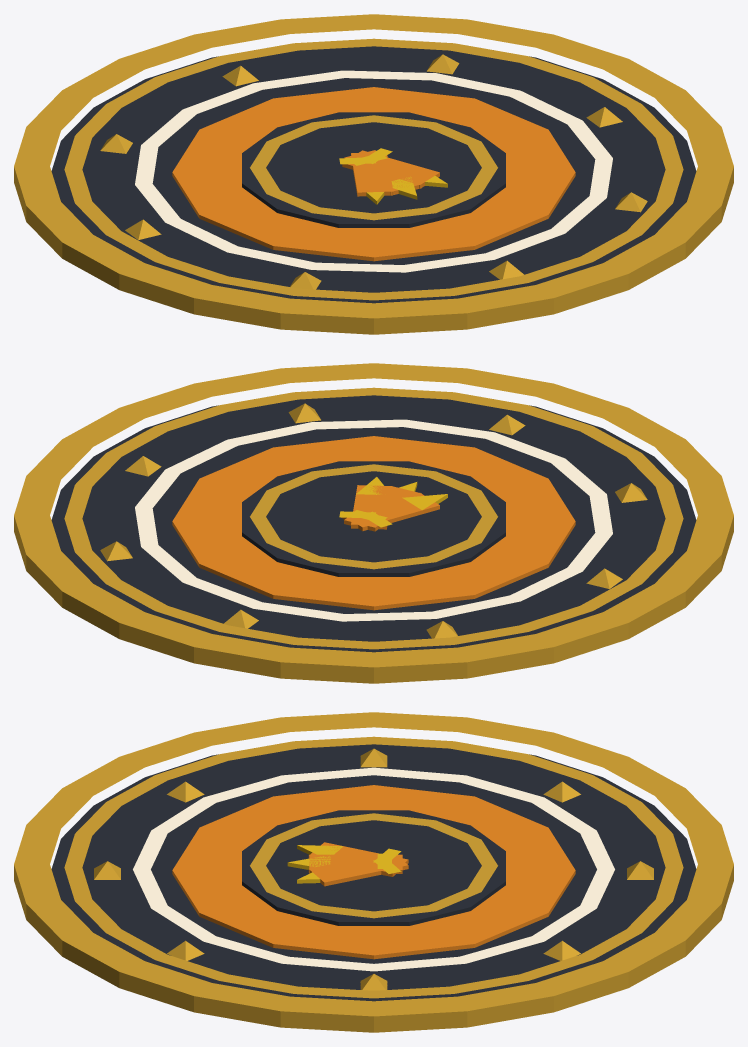
File: machine_gunner_legend_area.glb
3 views of the same model, one above another, from view 1: azimuth 30°, elevation 25°; view 2: azimuth 150°, elevation 25°; view 3: azimuth 270°, elevation 25° (orthographic).
Parts seen in each view (by area): view 1: machine_gunner_legend_area; view 2: machine_gunner_legend_area; view 3: machine_gunner_legend_area.
Part boxes in pixels (left/top/right/bottom): machine_gunner_legend_area: left=14, top=14, right=733, bottom=334; machine_gunner_legend_area: left=14, top=363, right=733, bottom=683; machine_gunner_legend_area: left=14, top=712, right=733, bottom=1032.
Size of the model in its own units: 2 by 0.06 by 2.
2 materials, 2 textured.
